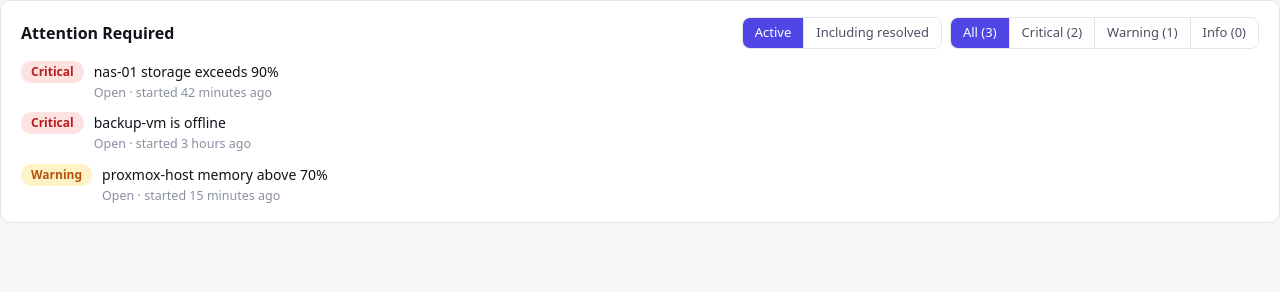
Test case: AlertsPanel › hides resolved alerts until history is switched on
Check: the link "nas-01 storage exceeds 90%" is shown, box [94,62,279,80]
Check: the text "plex-server CPU above 70%" is not shown
Click the button "Including resolved" at (873, 33), box [804,18,941,48]
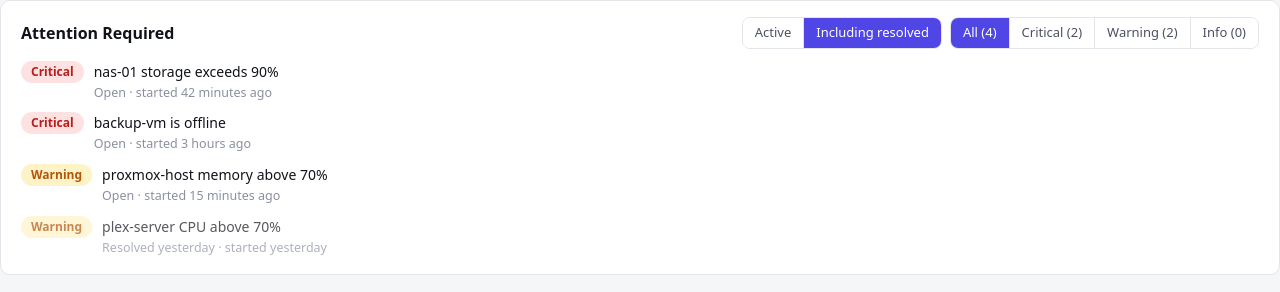
Check: the link "plex-server CPU above 70%" is shown, box [102,217,281,236]
